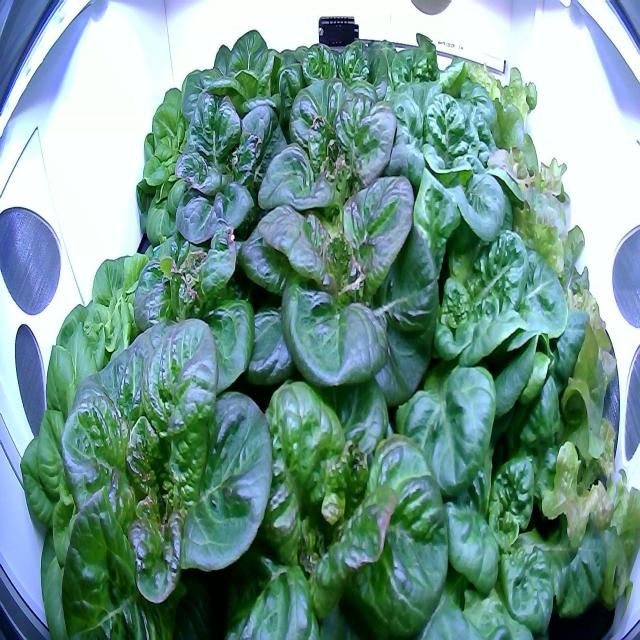Ready: (220, 357, 480, 640), (55, 314, 279, 634), (238, 185, 444, 423), (17, 377, 174, 638), (422, 219, 589, 463), (433, 416, 614, 640), (118, 203, 274, 427), (38, 236, 195, 432), (248, 75, 418, 245), (387, 75, 536, 265), (128, 51, 257, 250), (168, 92, 289, 284), (178, 20, 302, 141), (276, 30, 396, 130), (383, 26, 498, 130)
